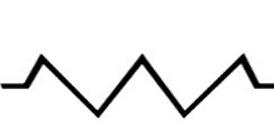resistor: (23, 41, 257, 121)
